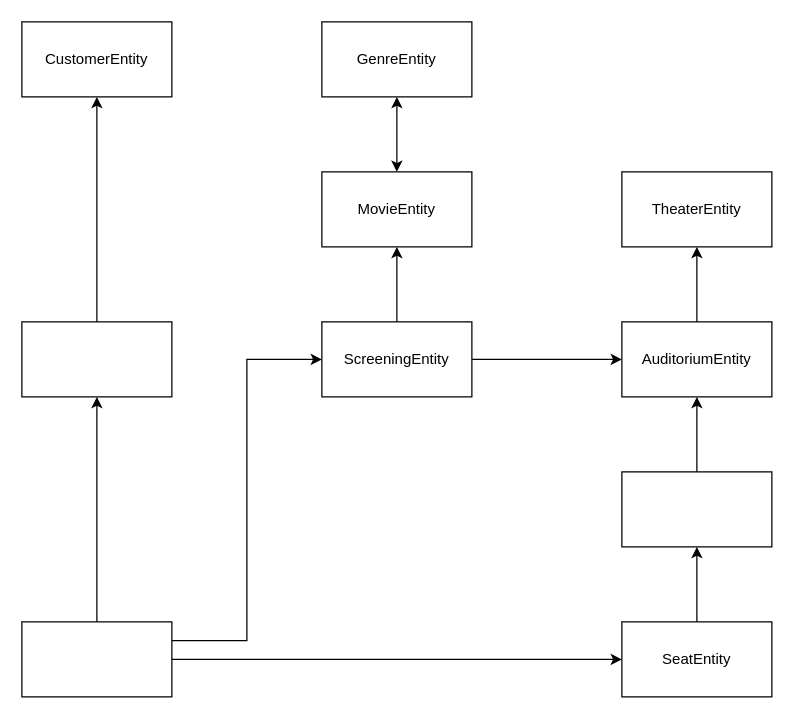
Image size: 794x719. Some labels were removed from this diagram. The shapes that lost their labels are listed below. From the top down, each one's box as (x1, y1, x2, y2) in pixels, then its label:
(21, 321, 172, 397): BookingEntity
(621, 471, 772, 547): TierEntity
(21, 621, 172, 697): SeatReservationEntity
